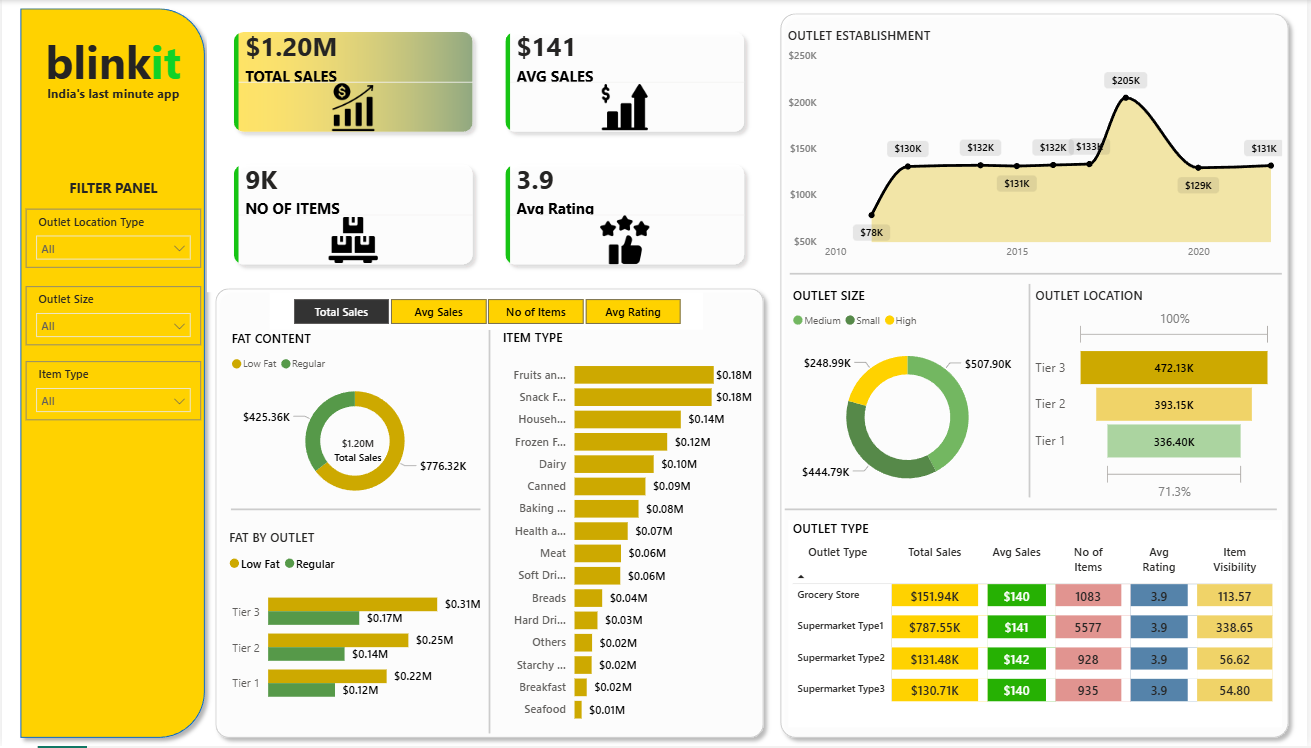

This screenshot's page, from the dashboard's own definition file:
{"tool":"powerbi","page":{"name":"Page 1","canvas":[1400,800],"ordinal":0},"visuals":[{"type":"shape","box":[10.7,0,215.8,800.3],"z":0},{"type":"textbox","box":[32.2,28.2,174.3,76.4],"z":1000},{"type":"textbox","box":[271.7,642.4,222.1,34.5],"z":2000},{"type":"textbox","box":[25.5,85.8,187.7,37.5],"z":3000},{"type":"cardVisual","fields":{"Data":["BlinkIT Grocery Data.Total Sales","BlinkIT Grocery Data.Avg Sales","BlinkIT Grocery Data.No of Items","BlinkIT Grocery Data.Avg Rating"]},"box":[219.8,12.1,605.9,300.3],"z":4000},{"type":"shape","box":[219.8,286.9,605.9,513.4],"z":5000},{"type":"donutChart","title":"FAT CONTENT","fields":{"Y":["BlinkIT Grocery Data.Total Sales"],"Category":["BlinkIT Grocery Data.Item Fat Content"]},"box":[241.3,353.9,274.8,193],"z":6000},{"type":"slicer","fields":{"Values":["Metrics.Metrics"]},"box":[286.9,304.3,465.1,40.2],"z":7000},{"type":"cardVisual","fields":{"Data":["BlinkIT Grocery Data.Total Sales"]},"box":[327.1,450.4,109.9,64.3],"z":8000},{"type":"clusteredBarChart","title":"FAT BY OUTLET","fields":{"Y":["BlinkIT Grocery Data.Total Sales"],"Category":["BlinkIT Grocery Data.Outlet Location Type"],"Series":["BlinkIT Grocery Data.Item Fat Content"]},"box":[238.6,567,281.5,202.4],"z":9000},{"type":"shape","box":[245.3,540.2,268.1,12.1],"z":10000},{"type":"shape","box":[482.6,353.9,80.4,433],"z":11000},{"type":"barChart","title":"ITEM TYPE","fields":{"Y":["BlinkIT Grocery Data.Total Sales"],"Category":["BlinkIT Grocery Data.Item Type"]},"box":[532.2,352.5,277.5,433],"z":12000},{"type":"shape","box":[825.7,5.4,563,794.9],"z":13000},{"type":"lineChart","title":"OUTLET ESTABLISHMENT","fields":{"Category":["BlinkIT Grocery Data.Outlet Establishment Year"],"Y":["BlinkIT Grocery Data.Total Sales"]},"box":[837.8,28.2,540.2,258.7],"z":14000},{"type":"shape","box":[844.5,286.9,528.2,13.4],"z":15000},{"type":"donutChart","title":"OUTLET SIZE","fields":{"Y":["BlinkIT Grocery Data.Total Sales"],"Category":["BlinkIT Grocery Data.Outlet Size"]},"box":[843.2,307,256,235.9],"z":16000},{"type":"funnel","title":"OUTLET LOCATION","fields":{"Y":["Sum(BlinkIT Grocery Data.Sales)"],"Category":["BlinkIT Grocery Data.Outlet Location Type"]},"box":[1103.2,307,264.1,235.9],"z":17000},{"type":"shape","box":[1061.7,304.3,80.4,229.2],"z":18000},{"type":"shape","box":[839.1,542.9,528.2,6.7],"z":19000},{"type":"pivotTable","title":"OUTLET TYPE","fields":{"Rows":["BlinkIT Grocery Data.Outlet Type"],"Values":["BlinkIT Grocery Data.Total Sales","BlinkIT Grocery Data.Avg Sales","BlinkIT Grocery Data.No of Items","BlinkIT Grocery Data.Avg Rating","Sum(BlinkIT Grocery Data.Item Visibility)"]},"box":[843.2,557.6,529.5,222.5],"z":20000},{"type":"slicer","fields":{"Values":["BlinkIT Grocery Data.Outlet Location Type"]},"box":[25.5,223.9,187.7,63],"z":21000},{"type":"slicer","fields":{"Values":["BlinkIT Grocery Data.Outlet Size"]},"box":[25.5,307,187.7,63],"z":22000},{"type":"slicer","fields":{"Values":["BlinkIT Grocery Data.Item Type"]},"box":[25.5,387.4,187.7,63],"z":23000},{"type":"textbox","box":[25.5,186.3,187.7,37.5],"z":23001}]}

Visuals, with their boxes in screenshot pixels (x1, y1, x2, y2), scaled from the page's 1400x800 canvas onto the 1311x748 screenshot:
shape: x1=10 y1=0 x2=212 y2=747
textbox: x1=30 y1=26 x2=193 y2=98
textbox: x1=254 y1=601 x2=462 y2=633
textbox: x1=24 y1=80 x2=200 y2=115
cardVisual - BlinkIT Grocery Data.Total Sales x BlinkIT Grocery Data.Avg Sales: x1=206 y1=11 x2=773 y2=292
shape: x1=206 y1=268 x2=773 y2=747
"FAT CONTENT" donutChart: x1=226 y1=331 x2=483 y2=511
slicer - Metrics.Metrics: x1=269 y1=285 x2=704 y2=322
cardVisual - BlinkIT Grocery Data.Total Sales: x1=306 y1=421 x2=409 y2=481
"FAT BY OUTLET" clusteredBarChart: x1=223 y1=530 x2=487 y2=719
shape: x1=230 y1=505 x2=481 y2=516
shape: x1=452 y1=331 x2=527 y2=736
"ITEM TYPE" barChart: x1=498 y1=330 x2=758 y2=734
shape: x1=773 y1=5 x2=1300 y2=747
"OUTLET ESTABLISHMENT" lineChart: x1=785 y1=26 x2=1290 y2=268
shape: x1=791 y1=268 x2=1285 y2=281
"OUTLET SIZE" donutChart: x1=790 y1=287 x2=1029 y2=508
"OUTLET LOCATION" funnel: x1=1033 y1=287 x2=1280 y2=508
shape: x1=994 y1=285 x2=1069 y2=499
shape: x1=786 y1=508 x2=1280 y2=514
"OUTLET TYPE" pivotTable: x1=790 y1=521 x2=1285 y2=729
slicer - BlinkIT Grocery Data.Outlet Location Type: x1=24 y1=209 x2=200 y2=268
slicer - BlinkIT Grocery Data.Outlet Size: x1=24 y1=287 x2=200 y2=346
slicer - BlinkIT Grocery Data.Item Type: x1=24 y1=362 x2=200 y2=421
textbox: x1=24 y1=174 x2=200 y2=209
